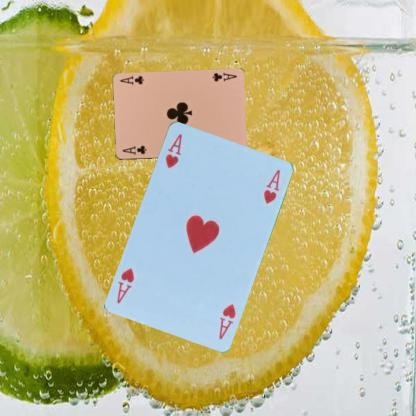Ac: (120, 143, 147, 157), (210, 70, 238, 83)
Ah: (162, 131, 184, 169), (216, 301, 237, 340)
